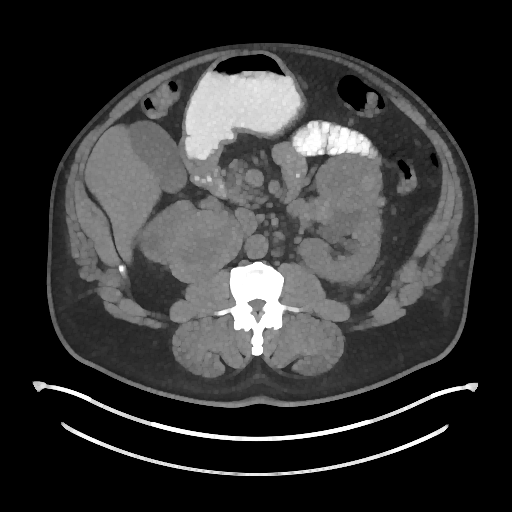Lesion: (163, 215, 245, 284)
